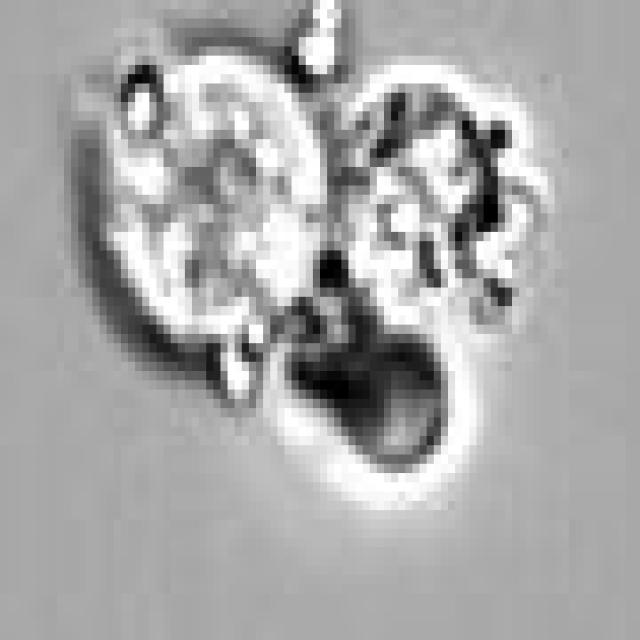Cancer Cell: (86, 46, 334, 352), (342, 65, 526, 325)
WBC: (327, 325, 455, 473)
